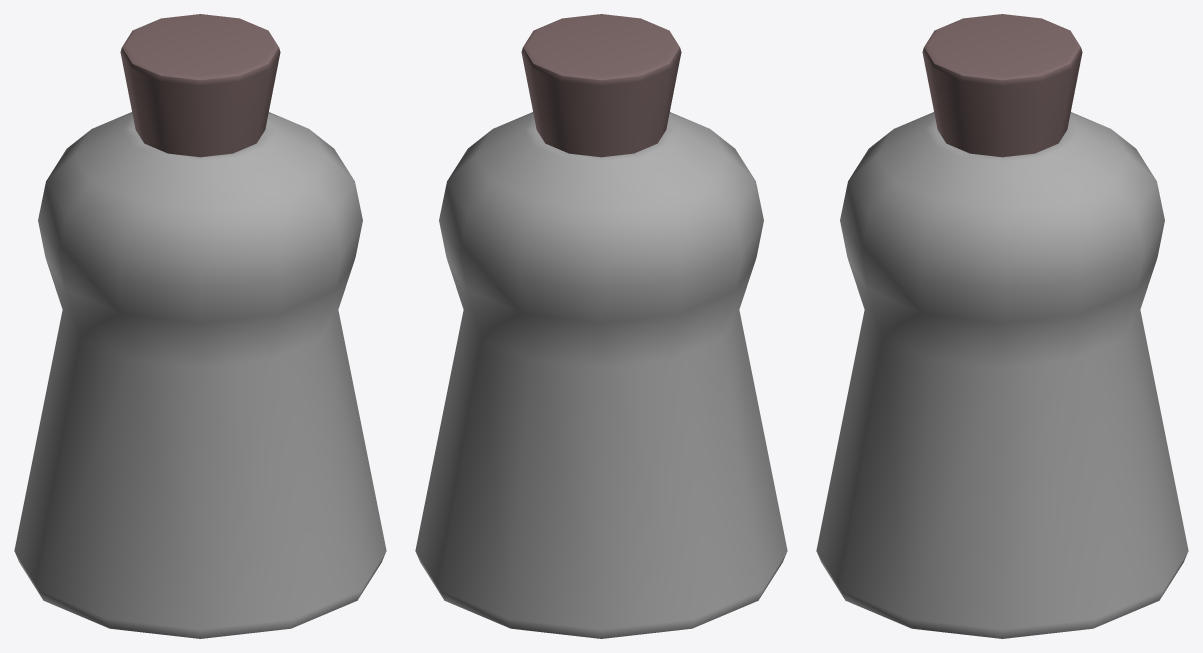
File: ZmiraaTears.fbx
The picture shows the model from 3 angles, left to right: view 1: azimuth 30°, elevation 25°; view 2: azimuth 150°, elevation 25°; view 3: azimuth 270°, elevation 25°; orthographic projection.
Parts seen in each view (by area): view 1: SM_ZmiraaTears; view 2: SM_ZmiraaTears; view 3: SM_ZmiraaTears.
Boxes of the visible parts, x1=… form: SM_ZmiraaTears: x1=14, y1=14, x2=386, y2=638; SM_ZmiraaTears: x1=415, y1=14, x2=787, y2=638; SM_ZmiraaTears: x1=816, y1=14, x2=1188, y2=638.
Size of the model in its own units: 11.66 by 18.05 by 11.66.
